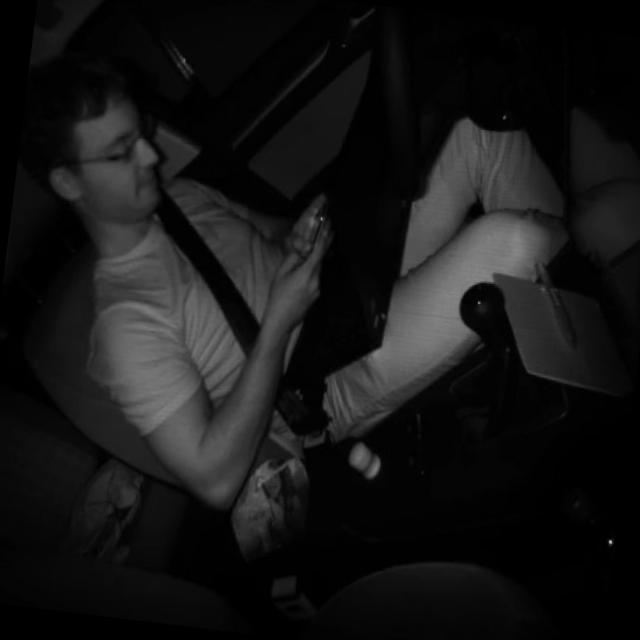pen: (526, 251, 591, 356)
